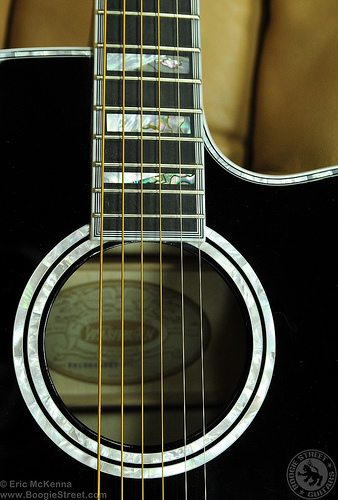guitar: (1, 1, 338, 500)
